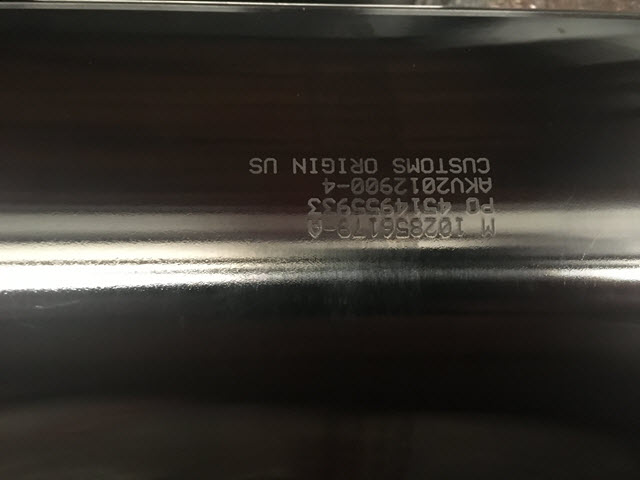character: (303, 193, 327, 222), (303, 216, 326, 243), (476, 215, 500, 238), (289, 153, 310, 177), (336, 217, 354, 243), (421, 216, 438, 243), (435, 216, 454, 240), (320, 175, 339, 199), (364, 197, 382, 222), (350, 217, 368, 241), (336, 197, 354, 221), (247, 153, 265, 177), (452, 215, 467, 243), (260, 154, 279, 176), (380, 218, 398, 241), (409, 216, 426, 240), (393, 195, 410, 219), (351, 197, 368, 221), (363, 173, 380, 197), (395, 216, 411, 241), (318, 155, 337, 176), (436, 194, 454, 216), (476, 172, 494, 194), (405, 155, 423, 177), (321, 217, 338, 240), (422, 196, 439, 219), (434, 154, 451, 177), (389, 155, 406, 178), (407, 175, 423, 199), (350, 173, 366, 197), (449, 174, 467, 195), (420, 175, 438, 196), (361, 154, 379, 175), (479, 195, 496, 217), (464, 195, 481, 217), (464, 174, 480, 197), (435, 174, 451, 197), (368, 214, 382, 240), (408, 194, 423, 218), (377, 176, 394, 197), (419, 155, 436, 176), (447, 156, 463, 178), (335, 155, 351, 177), (379, 196, 394, 219), (462, 154, 477, 177), (475, 154, 491, 175), (336, 175, 351, 197), (392, 176, 409, 194), (348, 157, 364, 176), (307, 155, 320, 178), (323, 197, 338, 216)
